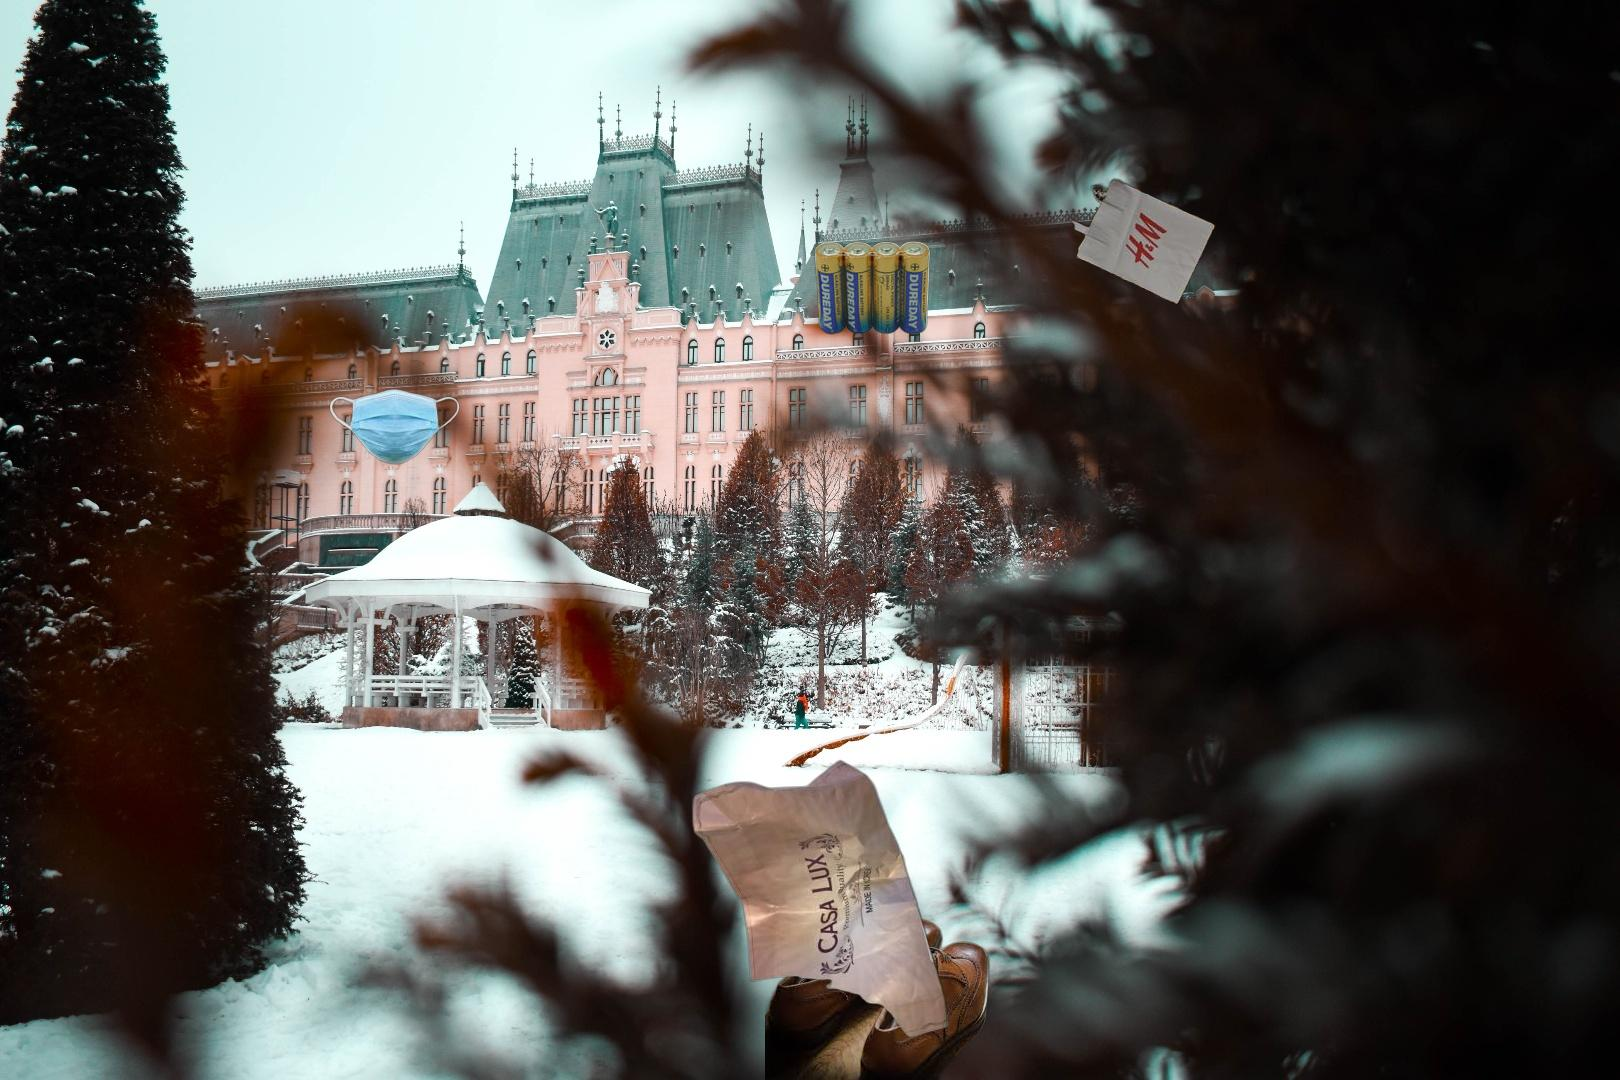battery: (812, 237, 933, 337)
paper: (598, 757, 952, 1080)
paper-bag: (1064, 177, 1217, 307)
shoes: (765, 906, 992, 1080)
trash: (327, 386, 462, 466)
